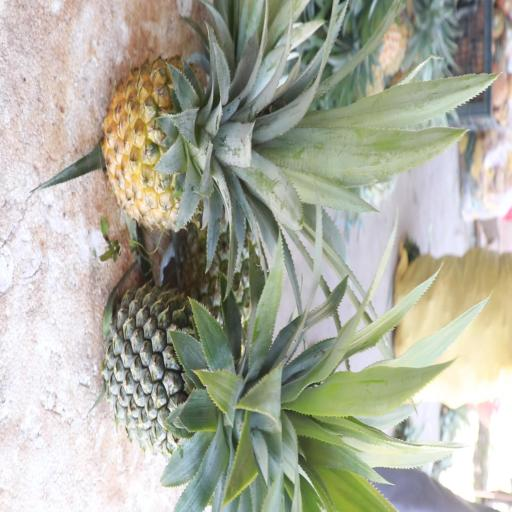Pineapple - v8 v1: (99, 49, 302, 236)
